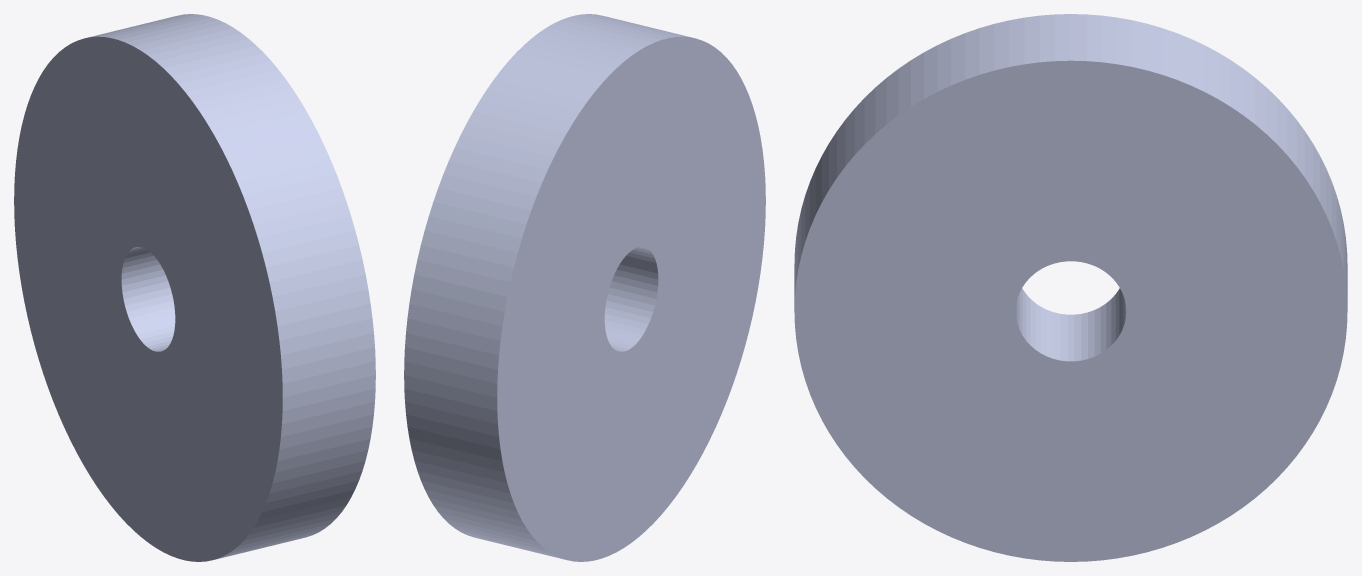
Rendered from RuedaV1.3.dae.
3 renders of one model, left to right at view 1: azimuth 30°, elevation 25°; view 2: azimuth 150°, elevation 25°; view 3: azimuth 270°, elevation 25°, orthographic. The views are drawn at different scales.
Parts seen in each view (by area): view 1: ID2; view 2: ID2; view 3: ID2.
Boxes of the visible parts, bbox=[...] form: ID2: bbox=[14, 14, 375, 561]; ID2: bbox=[404, 14, 765, 561]; ID2: bbox=[794, 14, 1347, 561].
Bounding box in the file's own units: 0.02 × 0.1 × 0.1.
